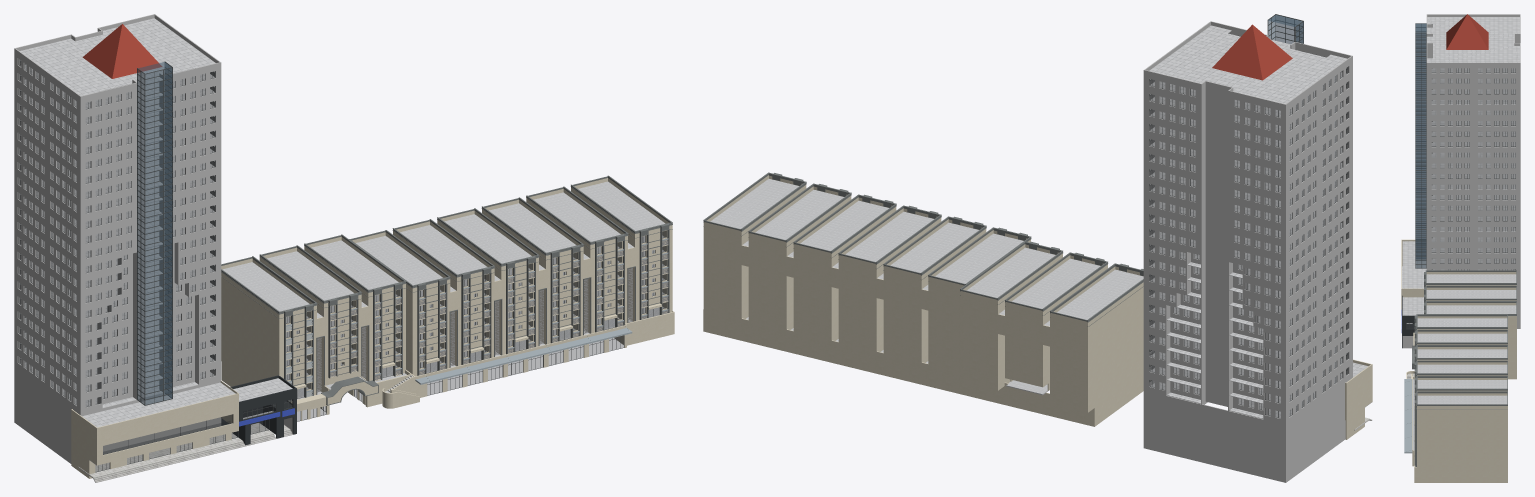
The model's file is gzl_39.FBX.
3 renders of one model, left to right at view 1: azimuth 30°, elevation 25°; view 2: azimuth 150°, elevation 25°; view 3: azimuth 270°, elevation 25°, orthographic. The views are drawn at different scales.
Visible parts, largest first — view 1: gzl_39; view 2: gzl_39; view 3: gzl_39.
Boxes of the visible parts, x1,y1,x2,y2 form: gzl_39: (14,14,674,482); gzl_39: (703,14,1372,482); gzl_39: (1401,14,1520,482).
Size of the model in its own units: 128006 by 85170 by 31756.
